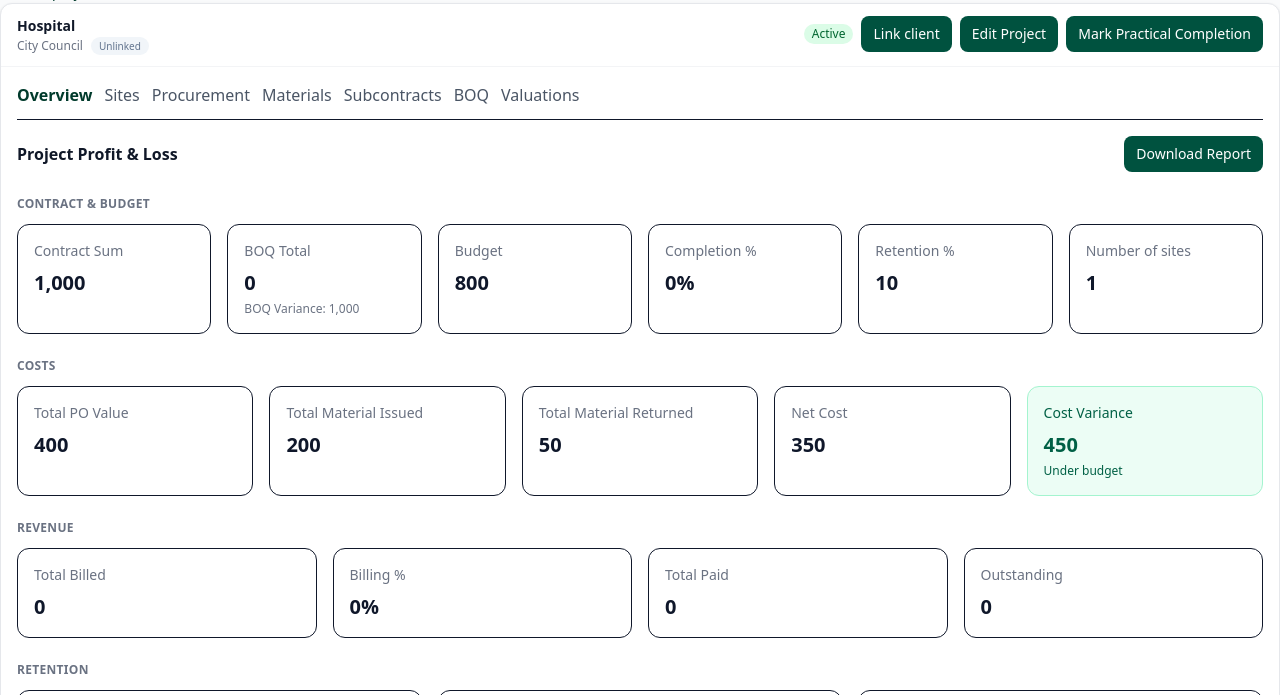
Test case: project detail › creates cumulative valuation deltas and the first valuation locks the BOQ
Click the tab "Valuations" at (540, 95), box left=501, top=83, right=580, bottom=107
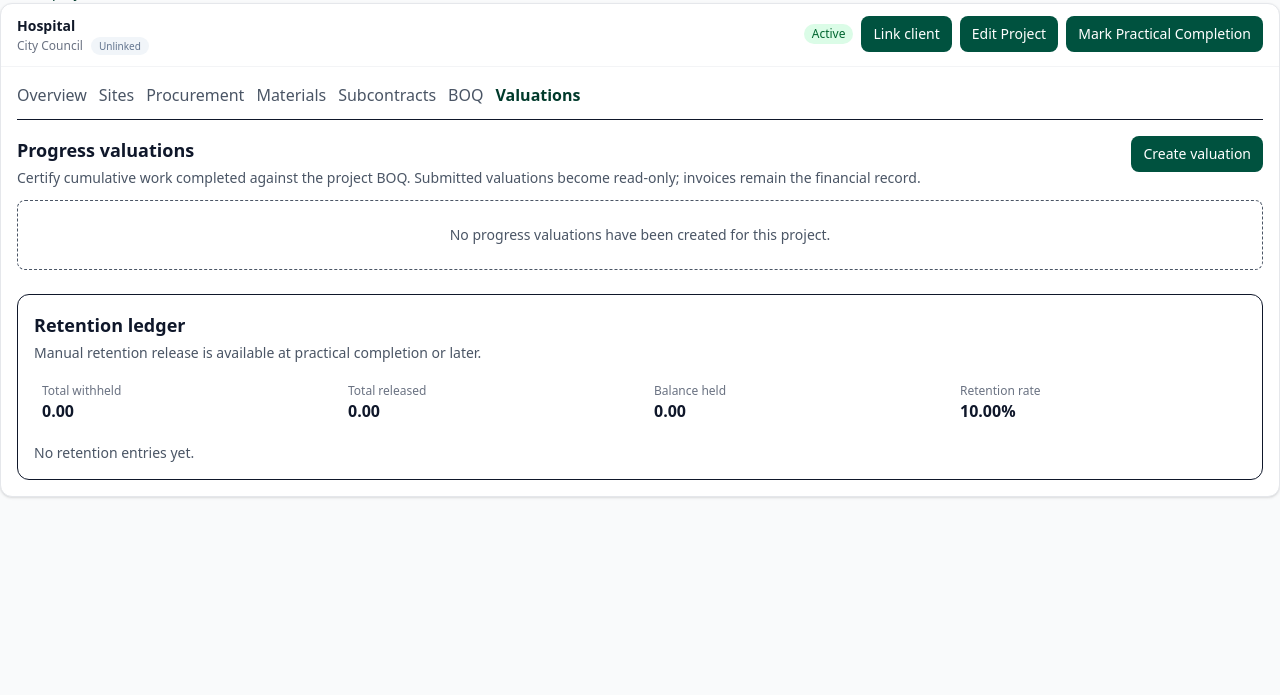
Click the button "Create valuation" at (1197, 154), box left=1131, top=136, right=1263, bottom=172
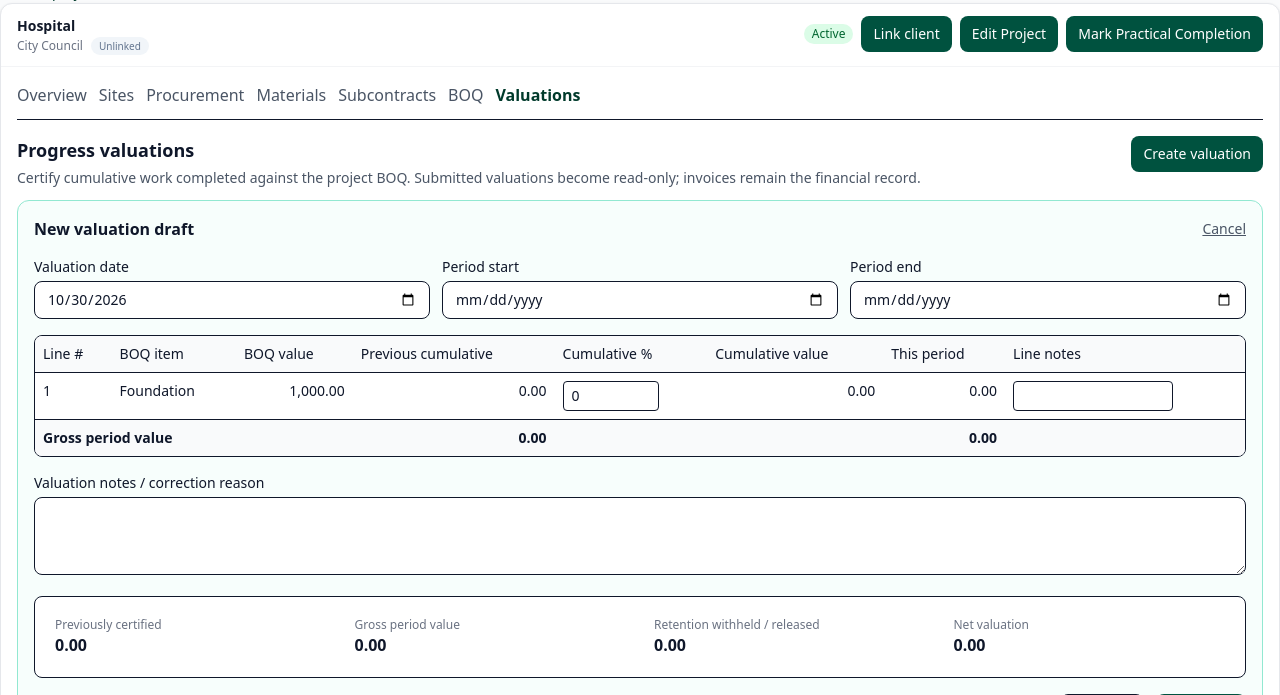
Replace the text in the number field named "Cumulative % 1" with "25" at (611, 396), box left=563, top=381, right=659, bottom=411
(page scrolled)
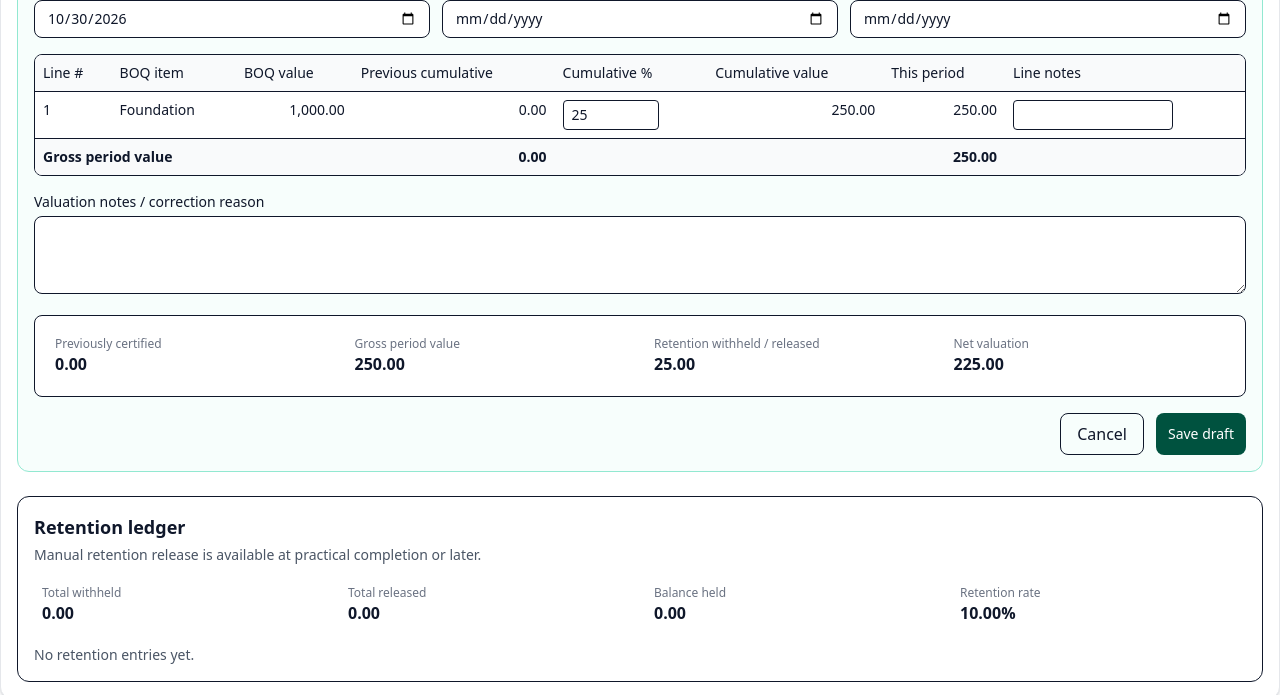
Click the button "Save draft" at (1201, 434), box left=1156, top=413, right=1246, bottom=455
(page scrolled)
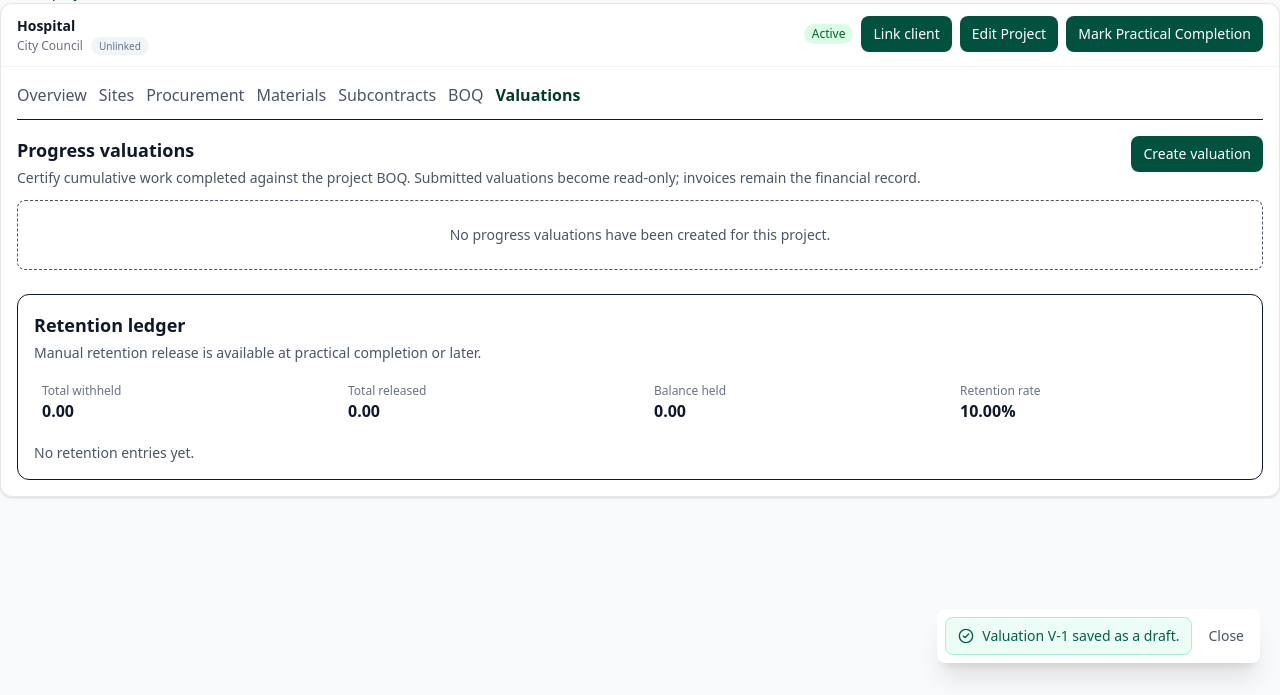
Click the tab "BOQ" at (466, 95), box left=448, top=83, right=484, bottom=107
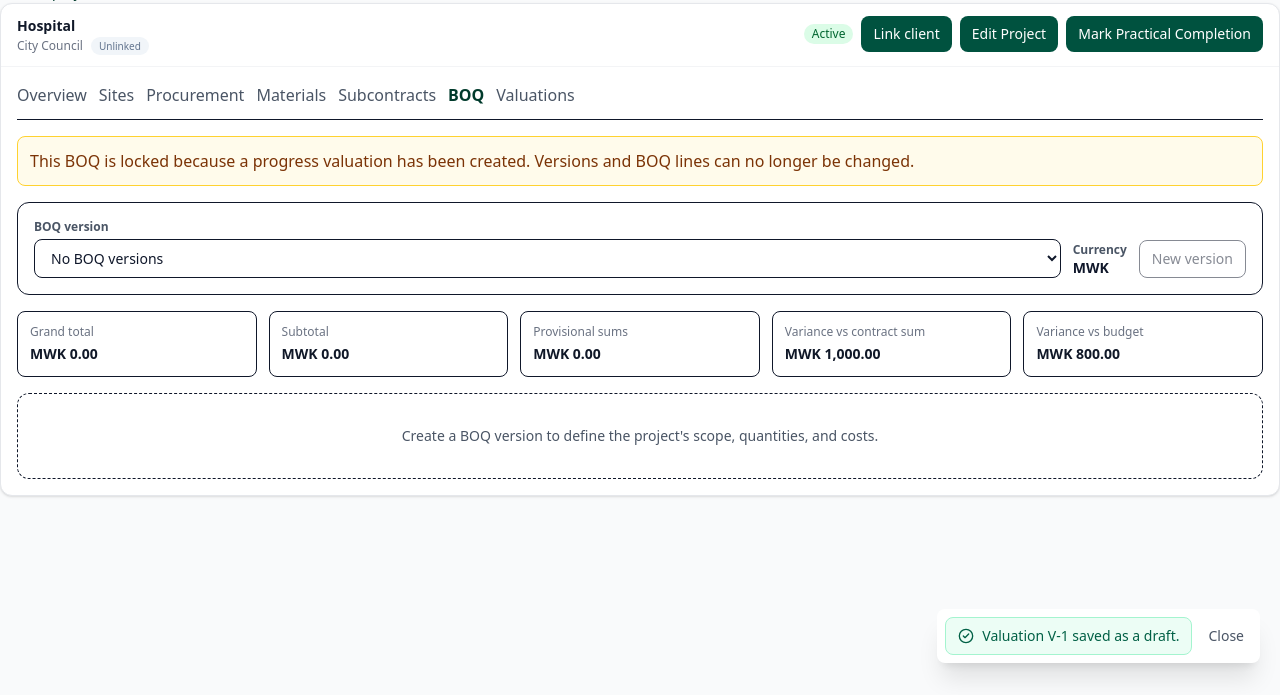
Expected: the text "This BOQ is locked because a progress valuation has been created. Versions and BOQ lines can no longer be changed." is shown, left=30, top=150, right=914, bottom=172
